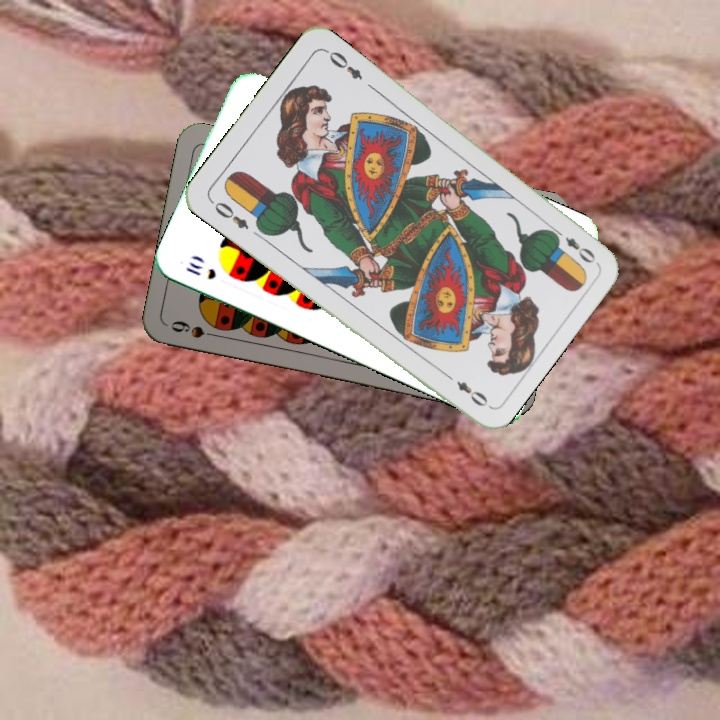EO: (548, 224, 599, 266), (206, 196, 252, 232)
S10: (181, 257, 219, 282)
S9: (167, 316, 224, 341)
